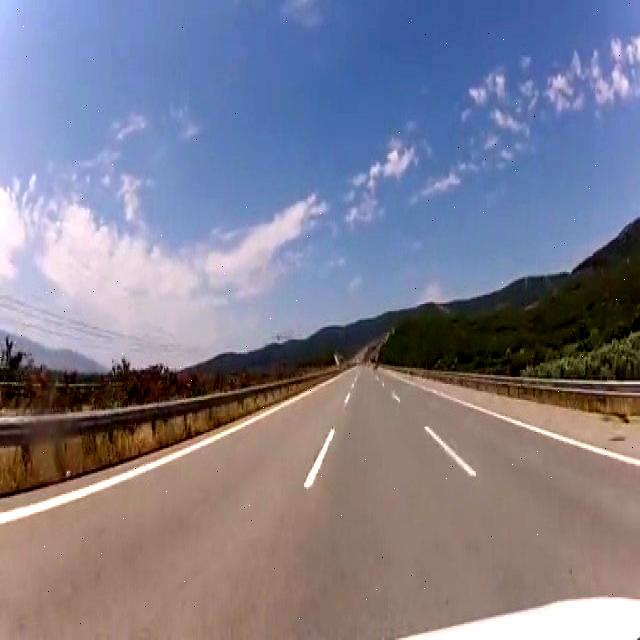lane: (0, 379, 336, 524), (399, 378, 640, 466), (425, 428, 476, 477), (304, 429, 334, 488)
road: (2, 368, 638, 638)
